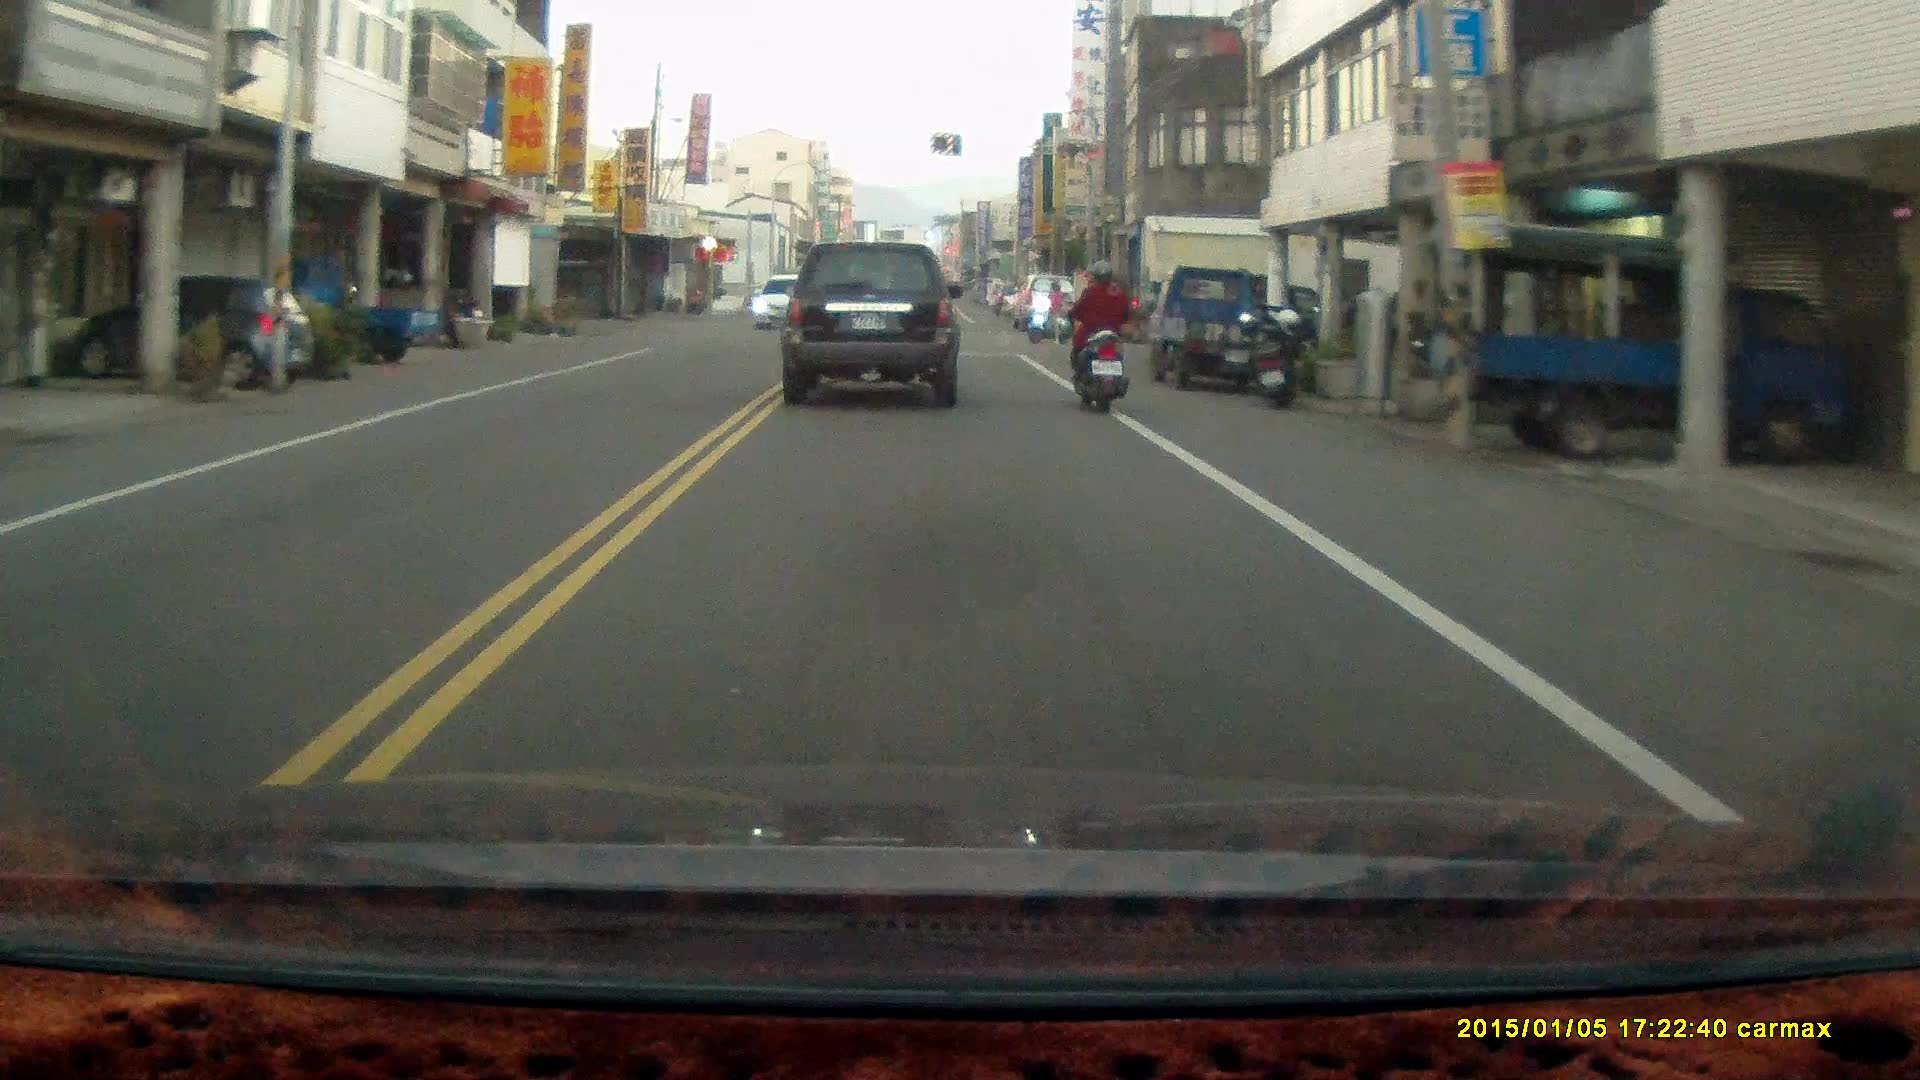rider: (1071, 258, 1129, 411), (1024, 278, 1069, 341)
vehicle: (1469, 226, 1861, 458), (783, 244, 963, 408), (64, 277, 312, 393), (1146, 267, 1307, 395), (753, 274, 819, 331)
